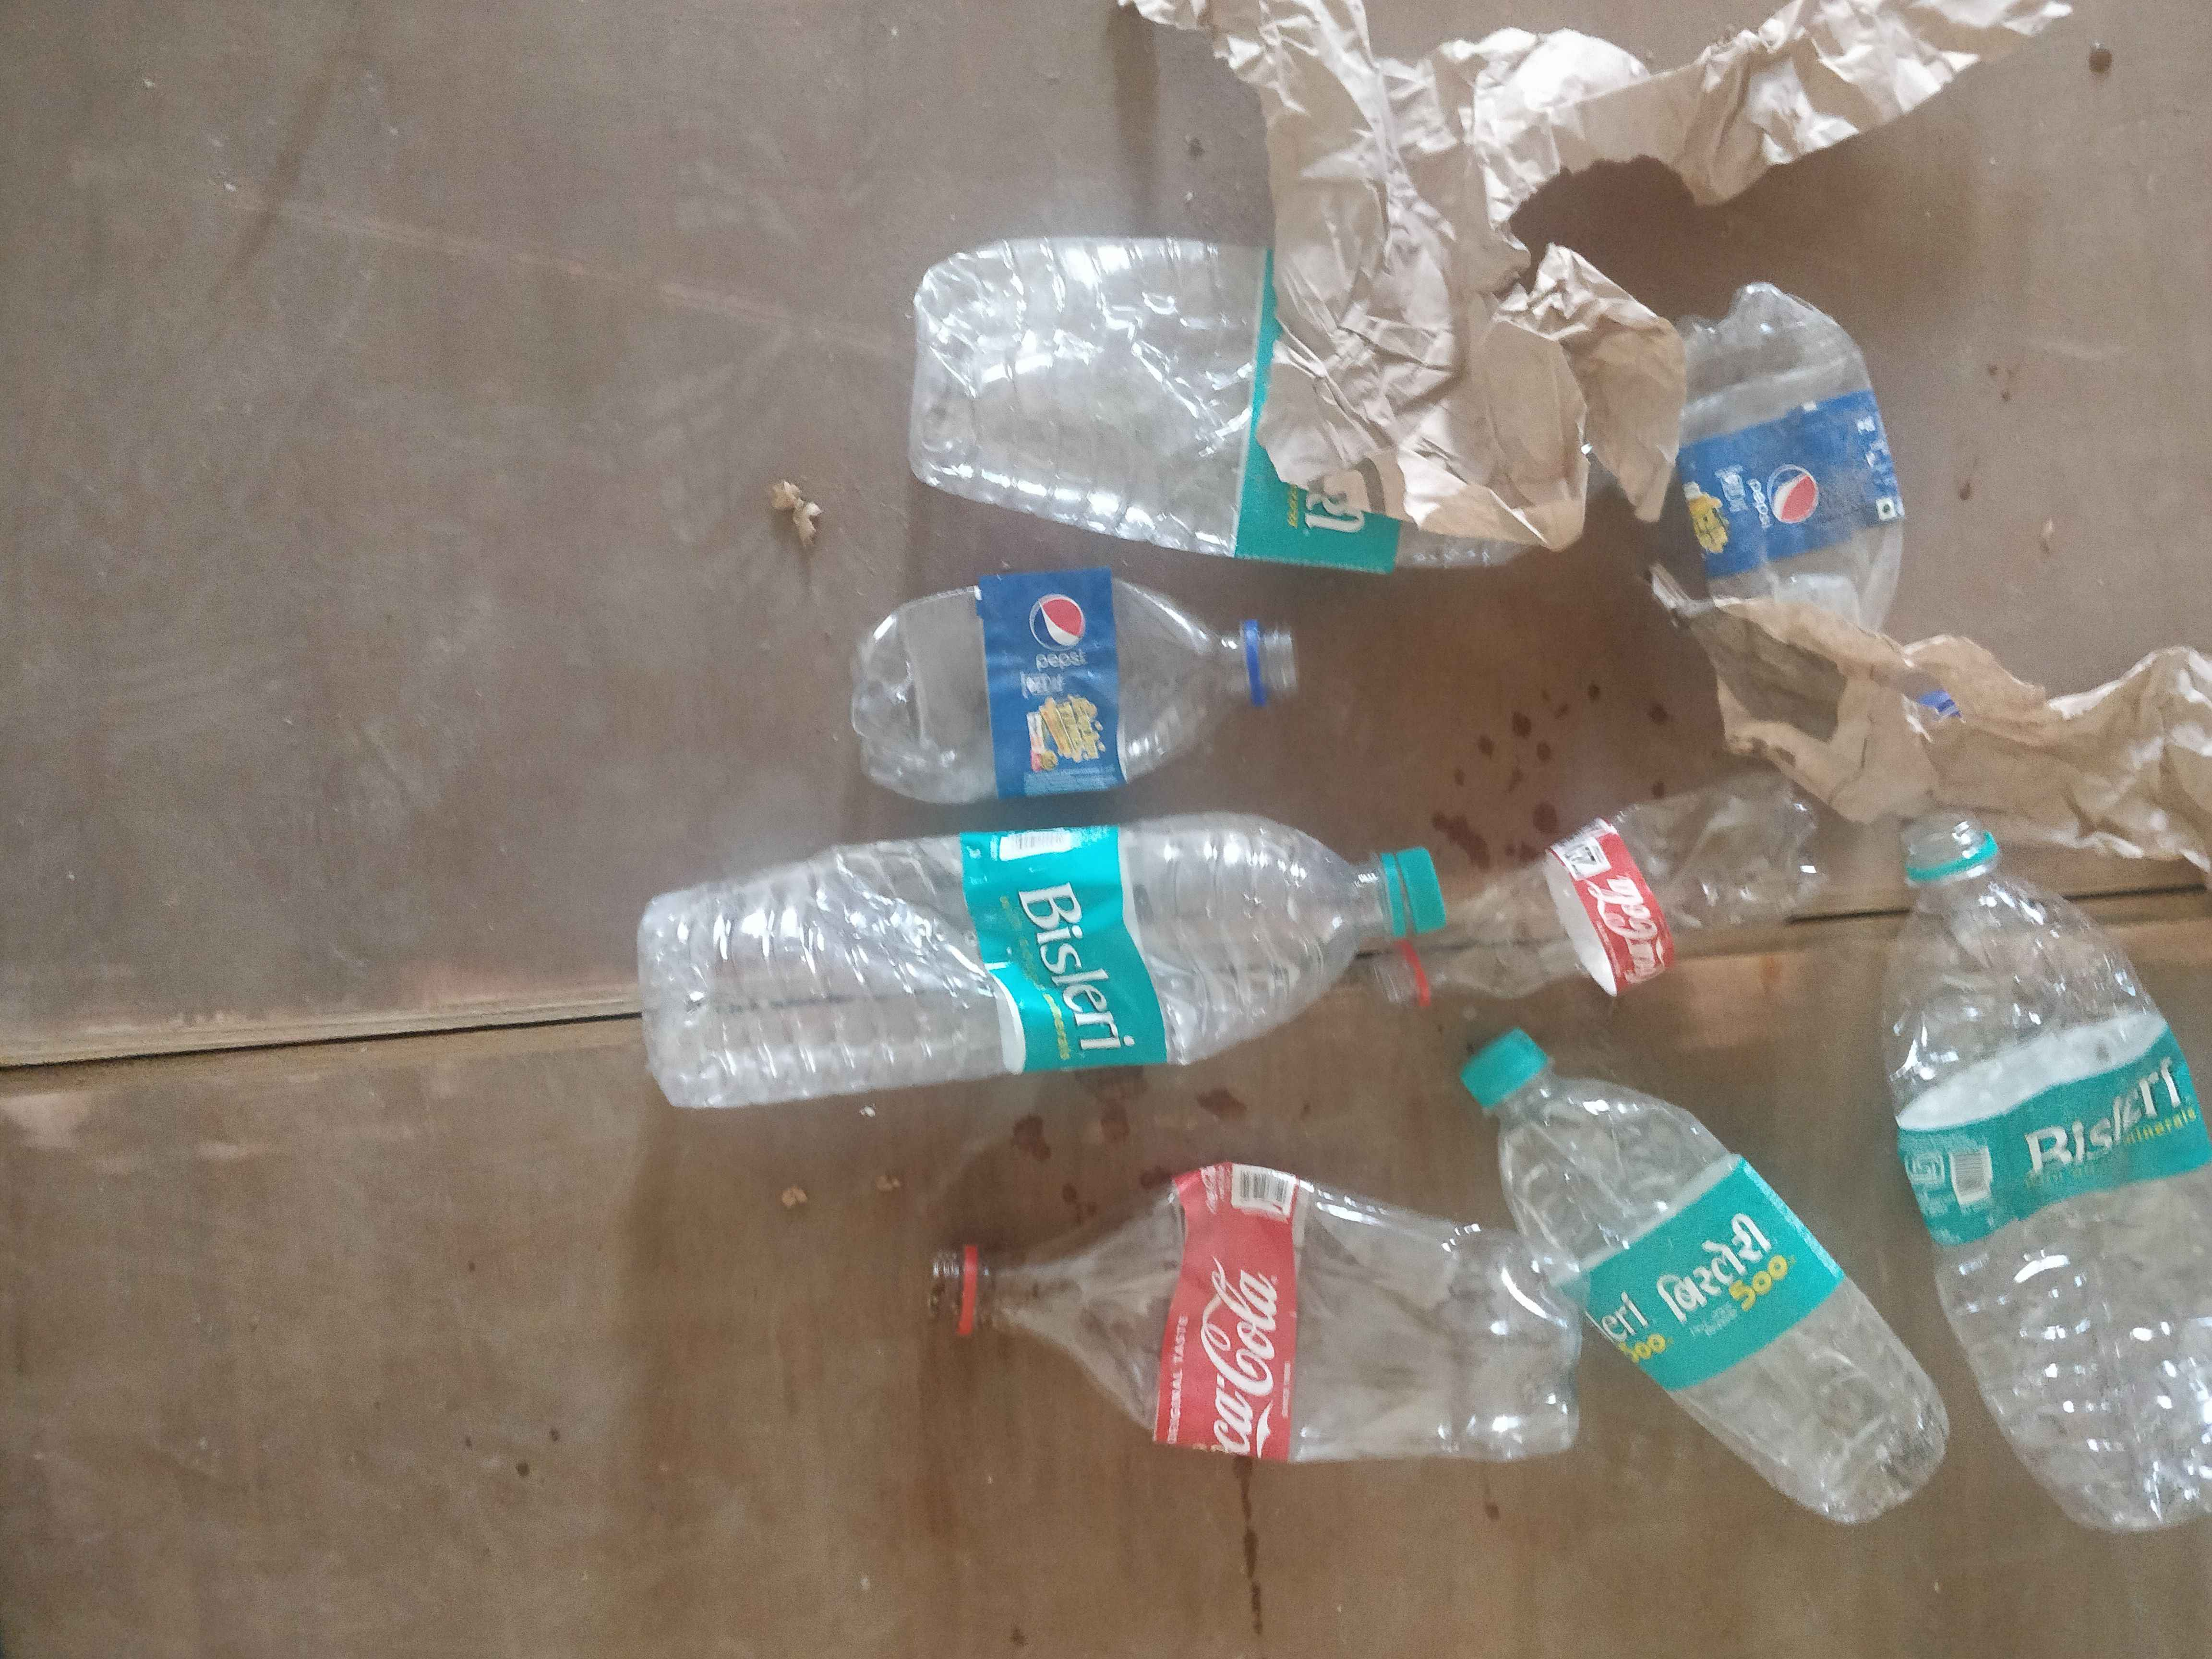Bisleri: (1947, 1063, 2188, 1232), (995, 849, 1169, 1060), (1601, 1209, 1773, 1373), (1245, 477, 1411, 554)
Coca-Cola: (1181, 1190, 1305, 1460), (1576, 840, 1672, 978)
pepsi: (1001, 591, 1116, 788), (1702, 434, 1855, 575)
